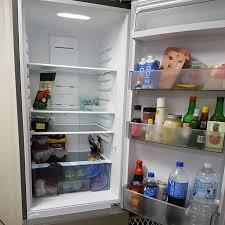soju: (177, 95, 198, 146)
